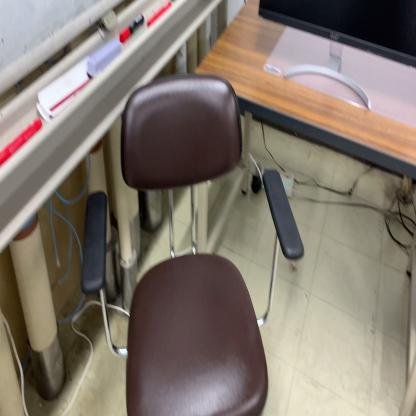chair: (78, 69, 304, 416)
